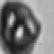correct: (0, 0, 42, 54)
